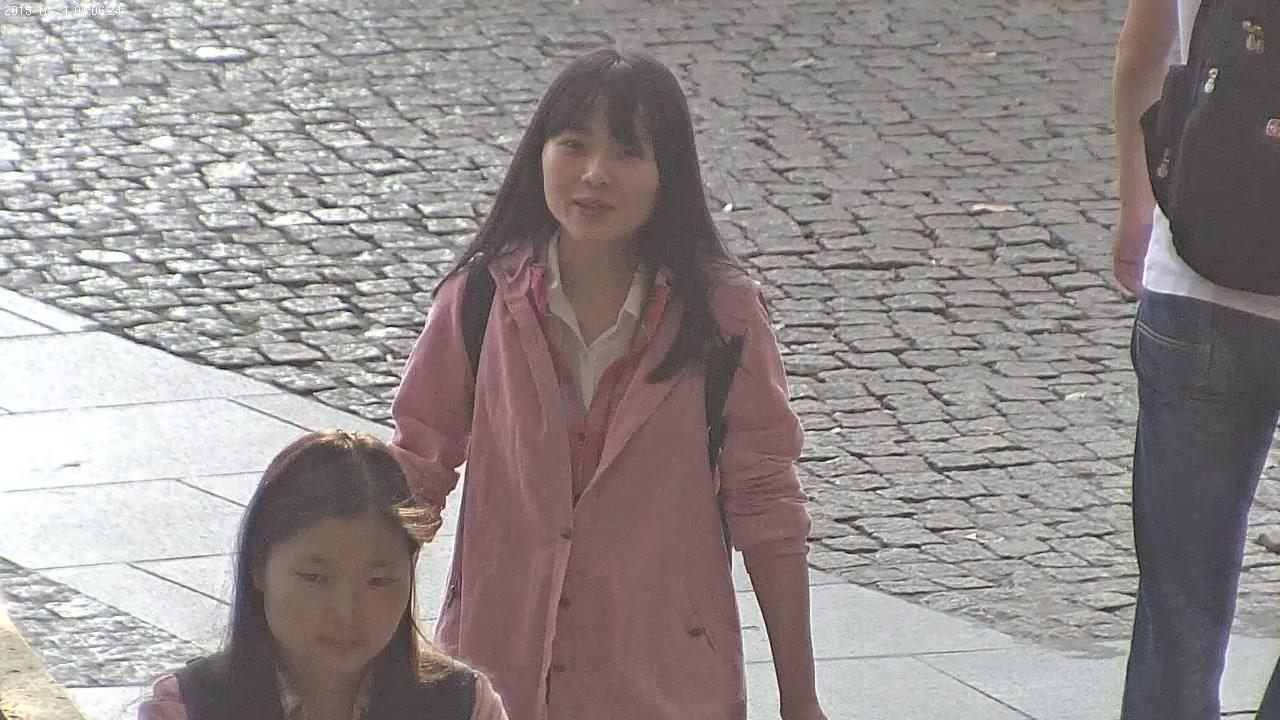person: (382, 48, 826, 720), (1111, 0, 1280, 720), (136, 428, 511, 720)
